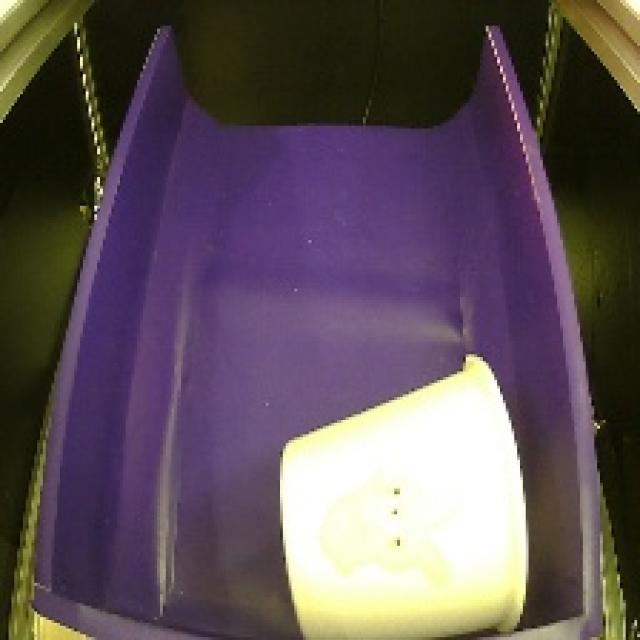cups: (259, 335, 540, 640)
